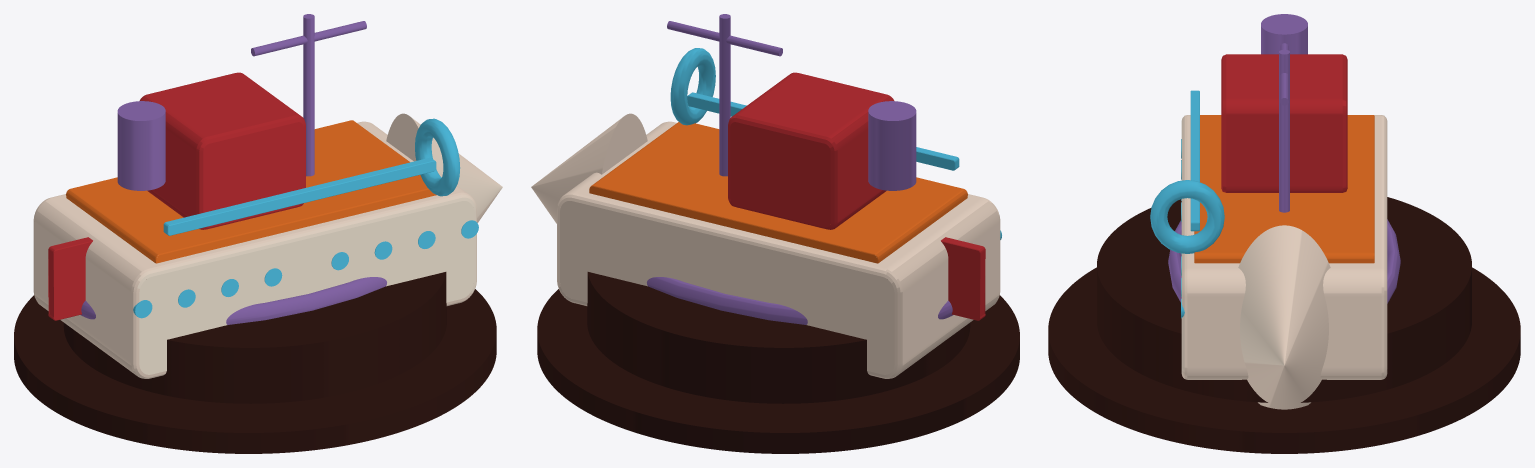
File: 1146_海底两万里_尼摩船长.glb
The picture shows the model from 3 angles, left to right: view 1: azimuth 30°, elevation 25°; view 2: azimuth 150°, elevation 25°; view 3: azimuth 270°, elevation 25°; orthographic projection.
Visible parts, largest first — view 1: card_1146; view 2: card_1146; view 3: card_1146.
Boxes of the visible parts, box(x1,y1,x2,y2) form: card_1146: box(14, 14, 502, 453); card_1146: box(531, 14, 1019, 453); card_1146: box(1048, 14, 1520, 453).
Size of the model in its own units: 1.48 by 1 by 1.32.
